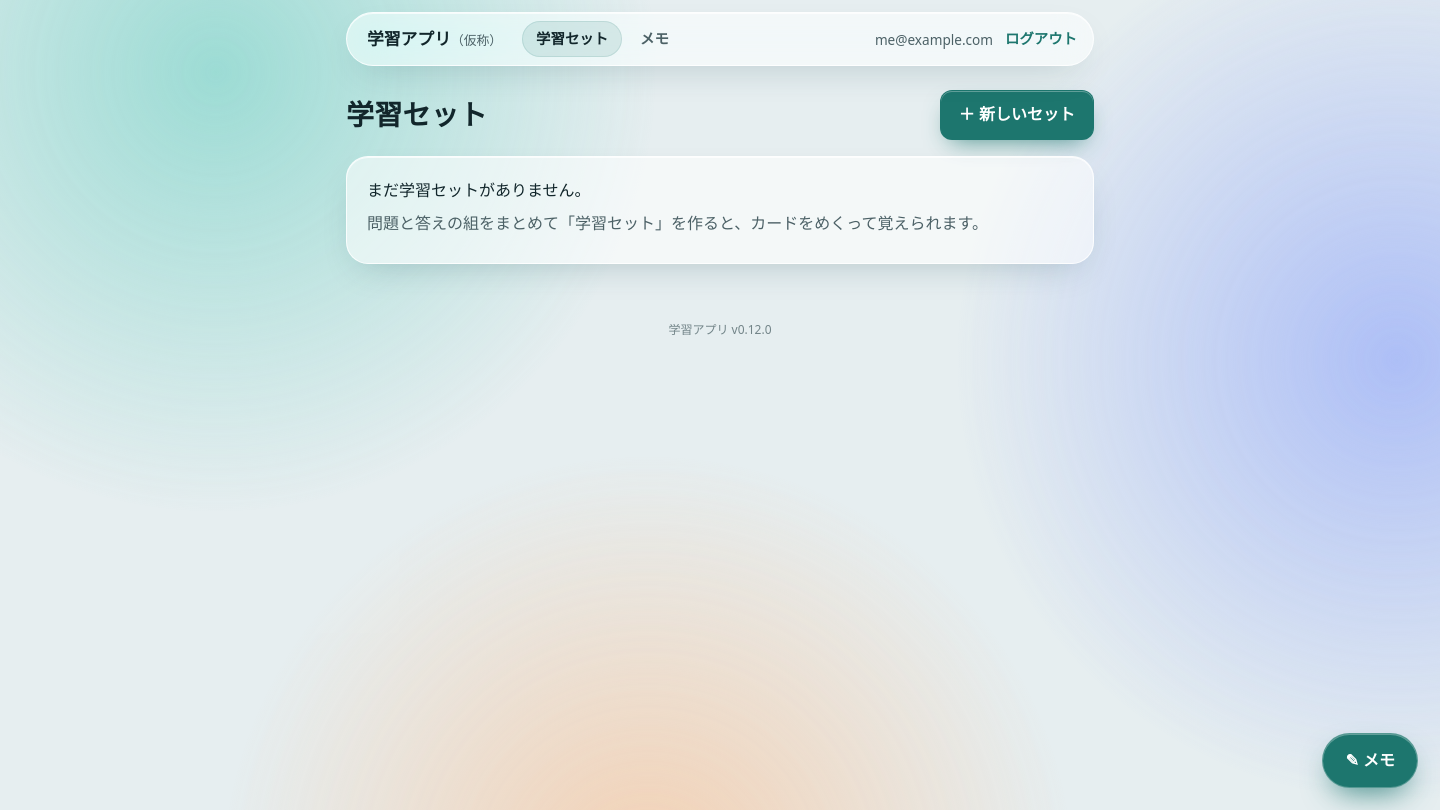
Test: ヘッダーの「メモ」から掃きだめメモを開ける
What coordinates should you click on to do the following:
click the link "メモ"
I would click on:
 (654, 38)
Its box is x1=640 y1=29 x2=669 y2=48.
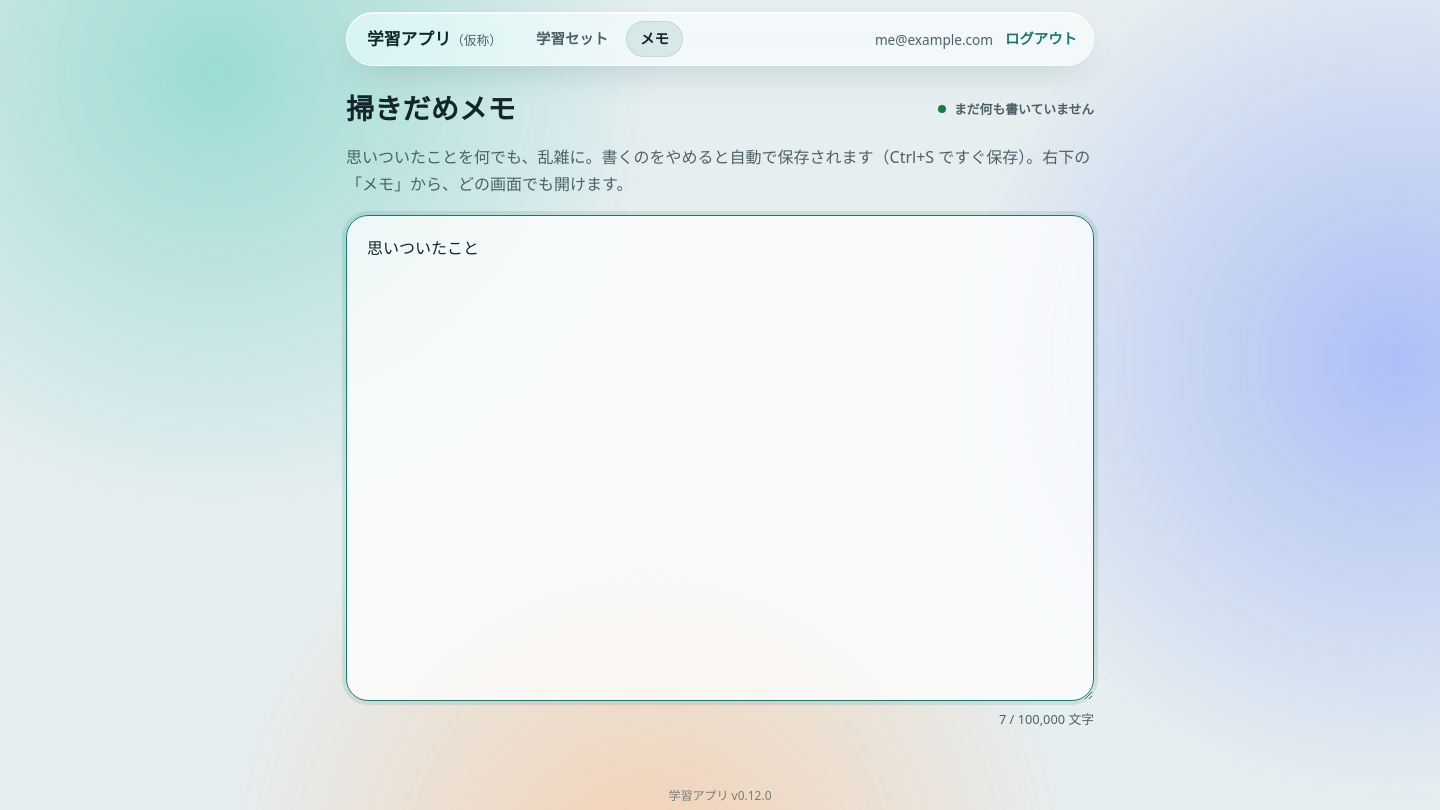
Expected: the heading "掃きだめメモ" is shown, x1=346 y1=90 x2=516 y2=128
Expected: the text box named "掃きだめメモ" holds "思いついたこと", x1=346 y1=215 x2=1094 y2=701
